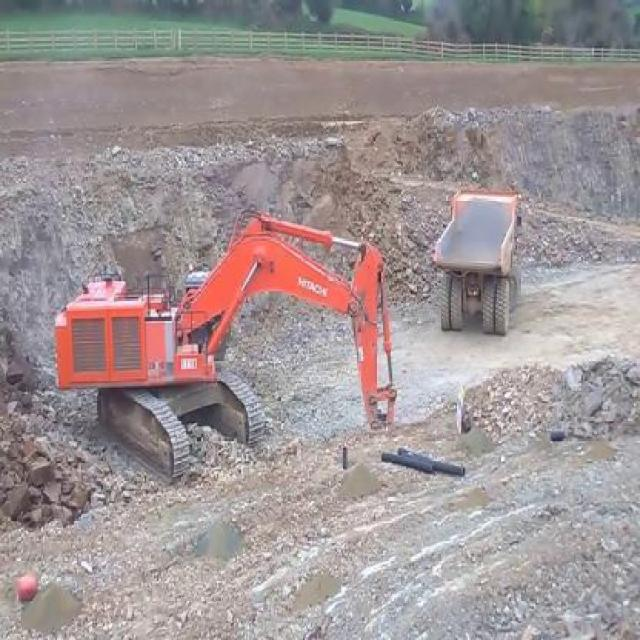dump_truck: (434, 188, 520, 334)
excavator: (54, 208, 397, 484)
